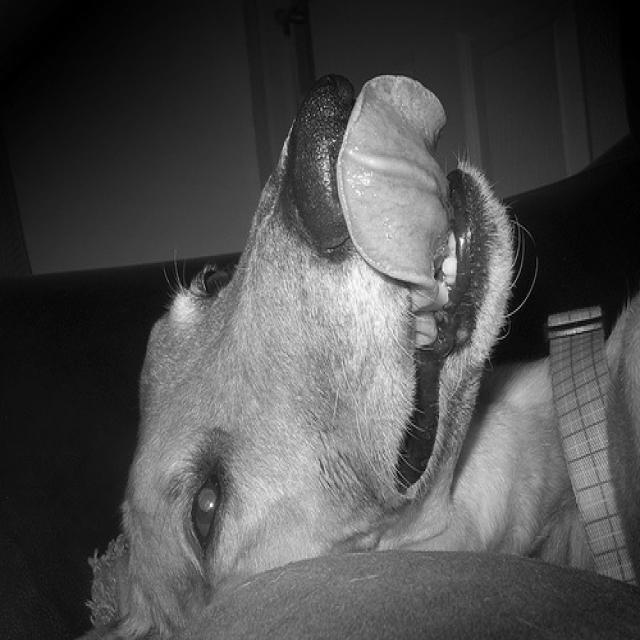dog: (97, 74, 639, 626)
